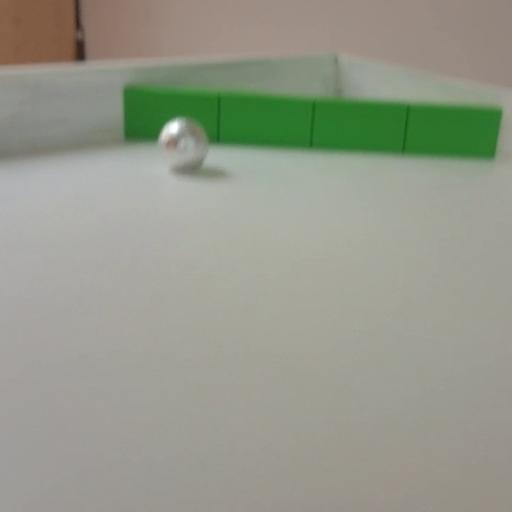alive: (158, 116, 208, 170)
